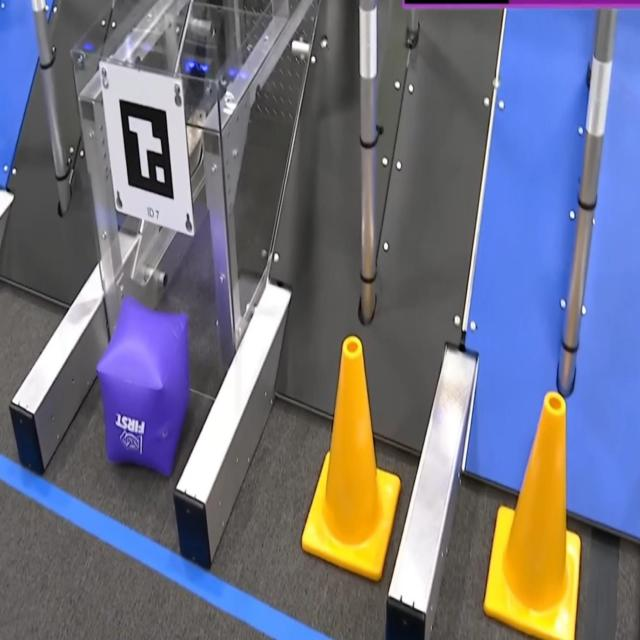frc_cone: (482, 389, 584, 640), (301, 335, 397, 573)
frc_cube: (96, 298, 190, 478)
